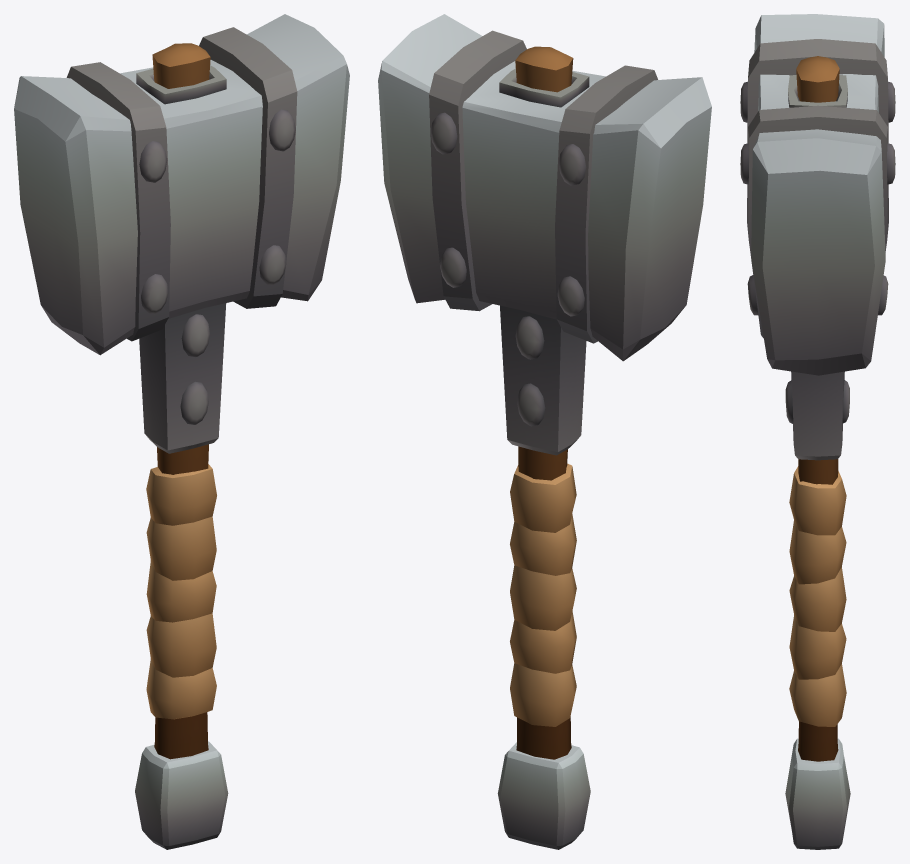
File: martelo.glb
The picture shows the model from 3 angles, left to right: view 1: azimuth 30°, elevation 25°; view 2: azimuth 150°, elevation 25°; view 3: azimuth 270°, elevation 25°; orthographic projection.
Visible parts, largest first — view 1: Hammer_07; view 2: Hammer_07; view 3: Hammer_07.
Part boxes in pixels (bbox=[...]): Hammer_07: bbox=[14, 14, 349, 849]; Hammer_07: bbox=[378, 14, 711, 849]; Hammer_07: bbox=[740, 14, 895, 849].
Bounding box in the file's own units: 0.4872 × 1.27 × 0.2303.
Materials: 1 (1 with a texture image).
